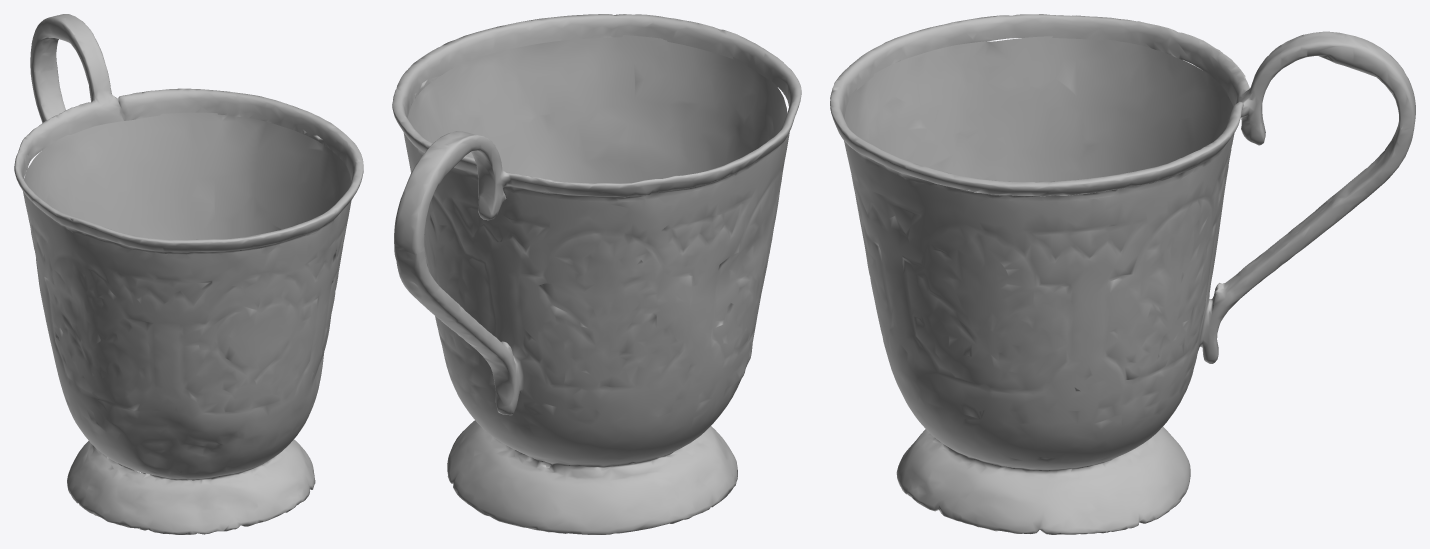
The picture shows the model from 3 angles, left to right: view 1: azimuth 30°, elevation 25°; view 2: azimuth 150°, elevation 25°; view 3: azimuth 270°, elevation 25°; orthographic projection. The views are drawn at different scales.
Parts seen in each view (by area): view 1: object; view 2: object; view 3: object.
Boxes of the visible parts, x1,y1,x2,y2 form: object: [14, 14, 363, 534]; object: [392, 14, 801, 534]; object: [830, 14, 1415, 534].
Size of the model in its own units: 83.08 by 99.92 by 119.
1 material, 1 textured.
